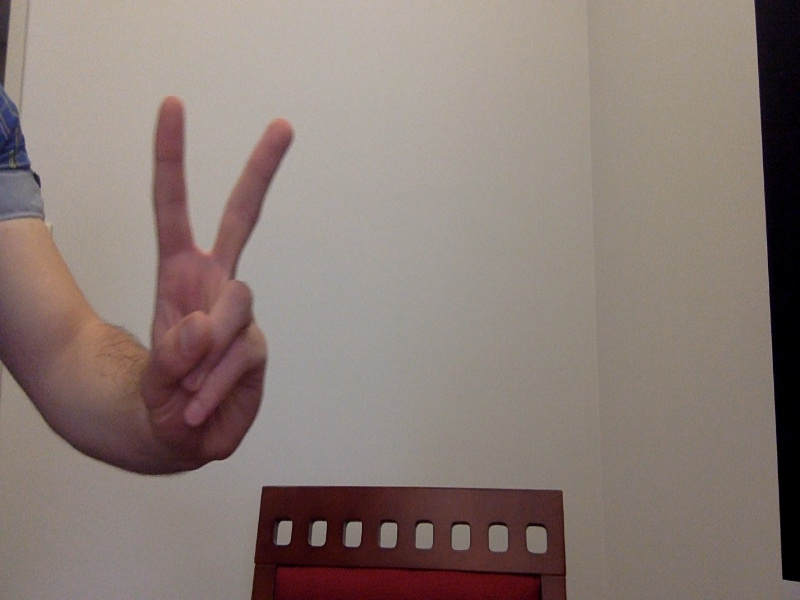2-hand: (139, 92, 288, 467)
